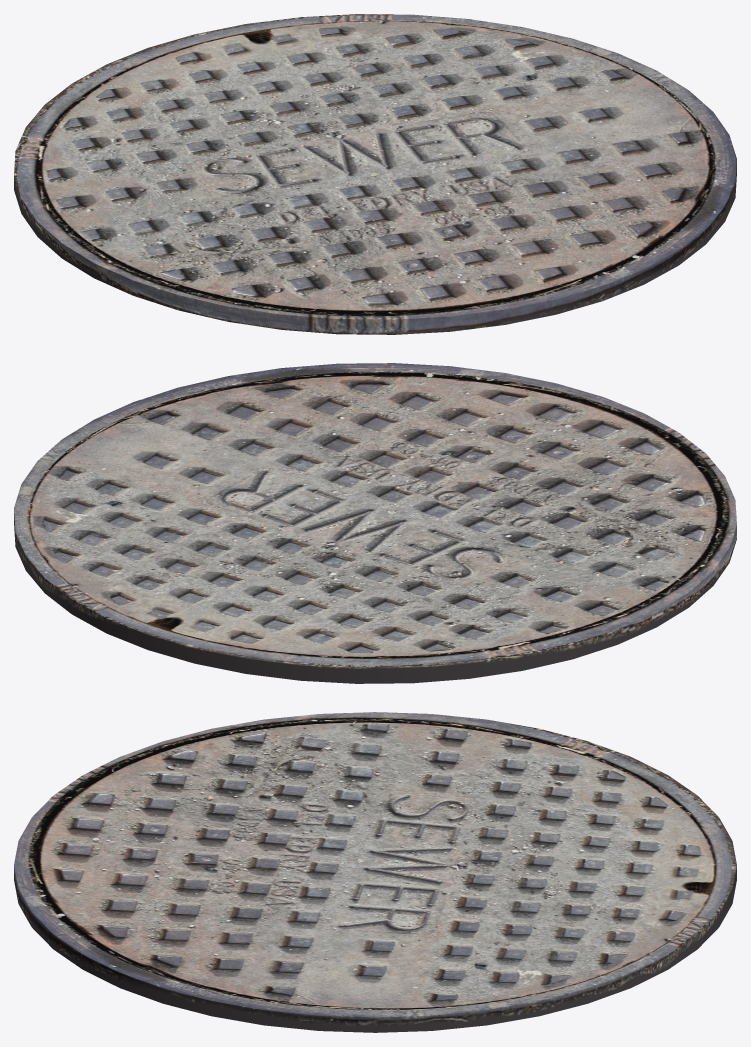
The model's file is manhole.glb.
The picture shows the model from 3 angles, top to bottom: view 1: azimuth 30°, elevation 25°; view 2: azimuth 150°, elevation 25°; view 3: azimuth 270°, elevation 25°; orthographic projection.
Parts seen in each view (by area): view 1: Manhole_Manhole_shader_0; view 2: Manhole_Manhole_shader_0; view 3: Manhole_Manhole_shader_0.
Part boxes in pixels (left/top/right/bottom): Manhole_Manhole_shader_0: left=14, top=14, right=736, bottom=334; Manhole_Manhole_shader_0: left=14, top=363, right=736, bottom=683; Manhole_Manhole_shader_0: left=14, top=712, right=736, bottom=1032.
Size of the model in its own units: 0.9967 by 0.0232 by 0.9967.
1 material, 1 textured.
